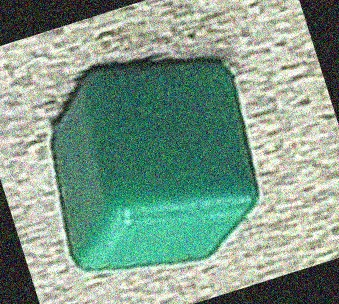green_cube: (21, 55, 293, 275)
